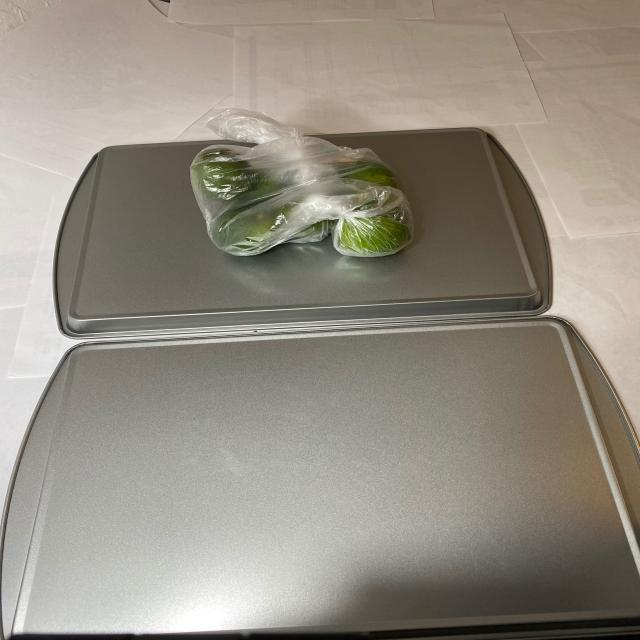lemon: (180, 136, 416, 258)
